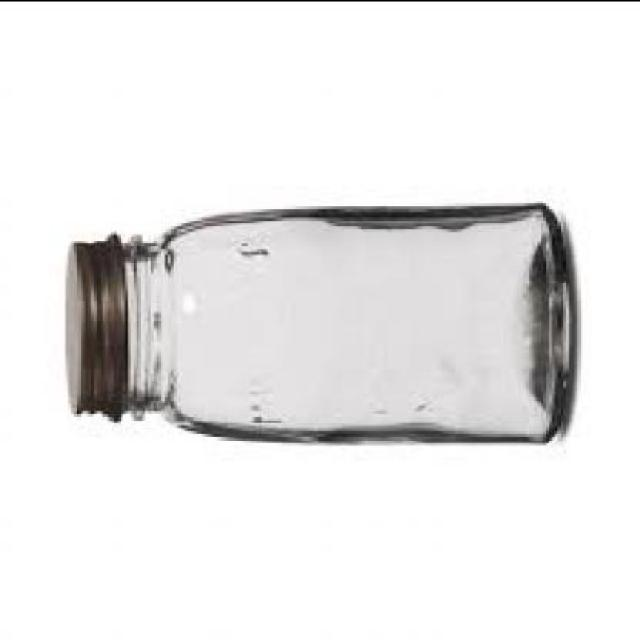GLASS: (123, 202, 572, 447)
METAL: (60, 236, 122, 421)
